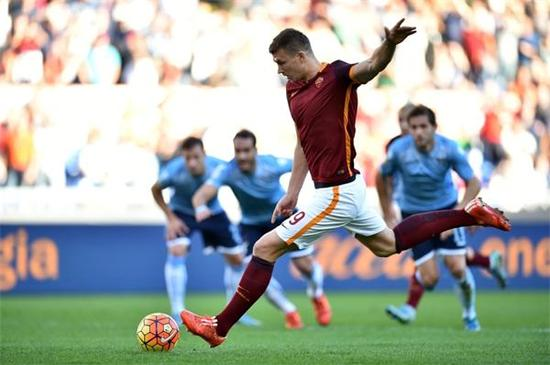ball: (136, 312, 180, 352)
